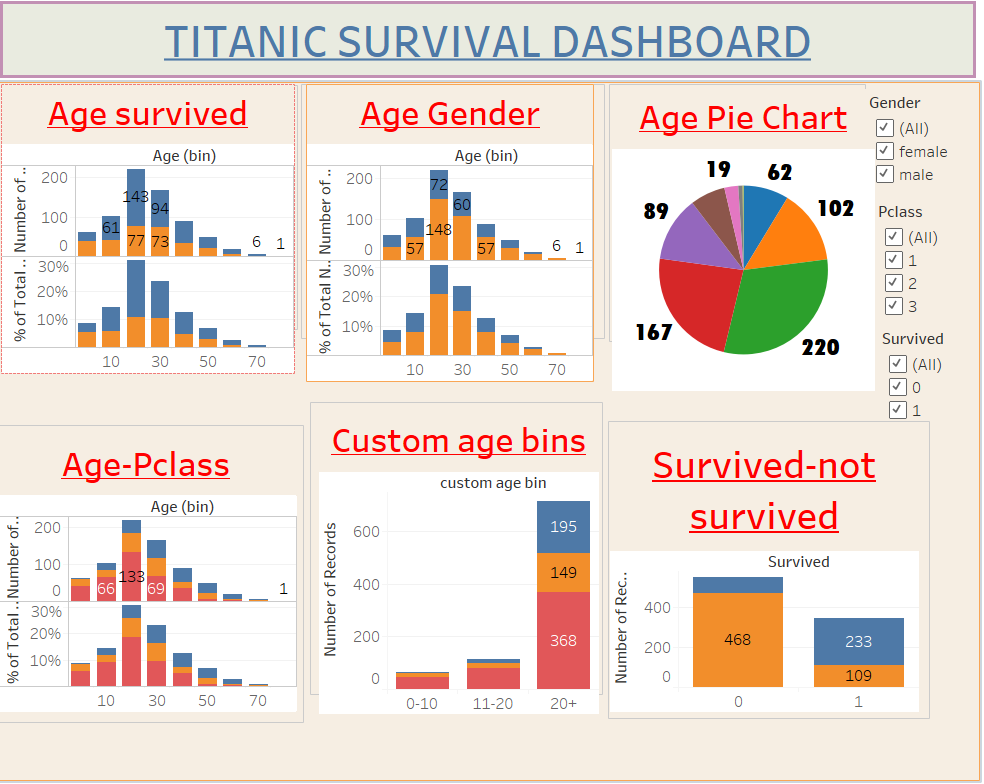

The dashboard page shown, as its layout file describes it:
{"tool":"tableau","page":{"name":"Dashboard 1","canvas":[1000,800],"ordinal":0},"visuals":[{"type":"title","box":[8,8,984,85]},{"type":"worksheet","title":"Age Survived","mark":"Automatic","rows":["Number of Records","Number of Records"],"cols":["Age (bin)"],"box":[13,95,294,290]},{"type":"worksheet","title":"Age number","mark":"Automatic","rows":["Number of Records","Number of Records"],"cols":["Age (bin)"],"box":[318,95,288,298]},{"type":"worksheet","title":"Age Pie Chart","mark":"Pie","box":[624,100,263,302]},{"type":"filter","title":"Age P-class","param":"[federated.1f3abty0o7250c12zsfba1i5g42w].[none:Gender:nk]","box":[881,103,110,98]},{"type":"filter","title":"Age P-class","param":"[federated.1f3abty0o7250c12zsfba1i5g42w].[none:Pclass:ok]","box":[890,212,97,124]},{"type":"filter","title":"Age Survived","param":"[federated.1f3abty0o7250c12zsfba1i5g42w].[none:Survived:ok]","box":[894,339,87,97]},{"type":"worksheet","title":"Custom age bins","mark":"Automatic","rows":["Number of Records"],"cols":["Calculation_1409908159925854208"],"box":[331,423,280,302]},{"type":"worksheet","title":"Survived-not survived","mark":"Automatic","rows":["Number of Records"],"cols":["Survived"],"box":[622,445,309,278]},{"type":"worksheet","title":"Age P-class","mark":"Automatic","rows":["Number of Records","Number of Records"],"cols":["Age (bin)"],"box":[7,447,302,276]}]}

Visuals, with their boxes in screenshot pixels (x1, y1, x2, y2), scaled from the page's 1000x800 canvas onto the 984x784 screenshot:
title: select_region(8, 8, 976, 91)
"Age Survived" worksheet: select_region(13, 93, 302, 377)
"Age number" worksheet: select_region(313, 93, 596, 385)
"Age Pie Chart" worksheet (Pie marks): select_region(614, 98, 873, 394)
"Age P-class" filter: select_region(867, 101, 975, 197)
"Age P-class" filter: select_region(876, 208, 971, 329)
"Age Survived" filter: select_region(880, 332, 965, 427)
"Custom age bins" worksheet: select_region(326, 415, 601, 710)
"Survived-not survived" worksheet: select_region(612, 436, 916, 709)
"Age P-class" worksheet: select_region(7, 438, 304, 709)
